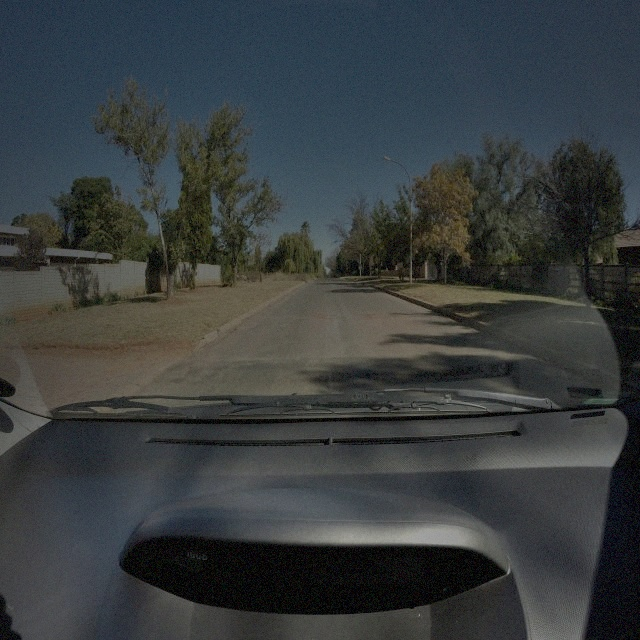pothole: (317, 312, 337, 321), (366, 312, 393, 318)
